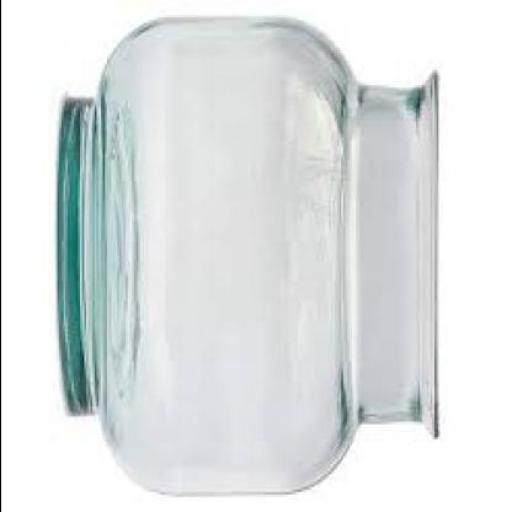glass: (58, 17, 439, 490)
